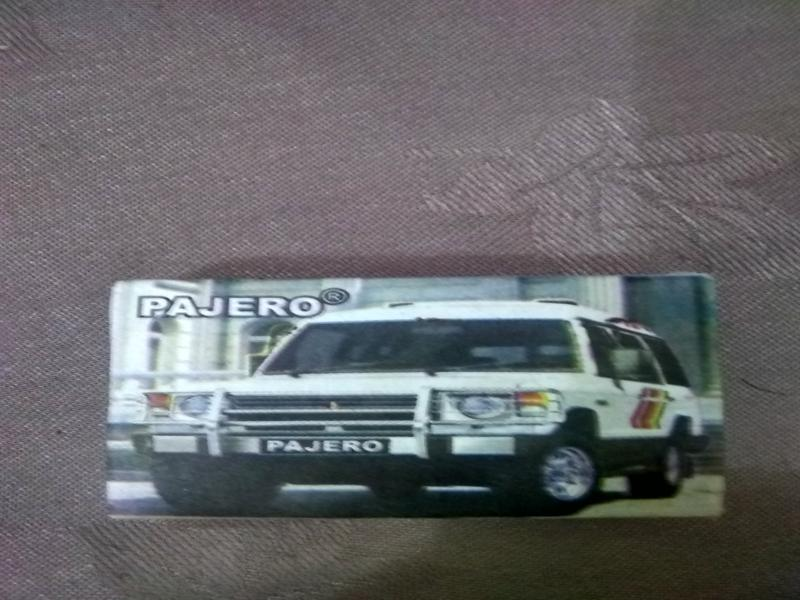pajero: (106, 279, 725, 515)
